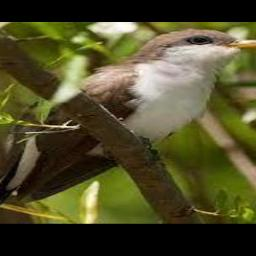Cuckoo: (0, 28, 256, 222)
